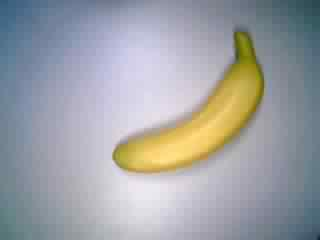banana: (107, 26, 272, 177)
